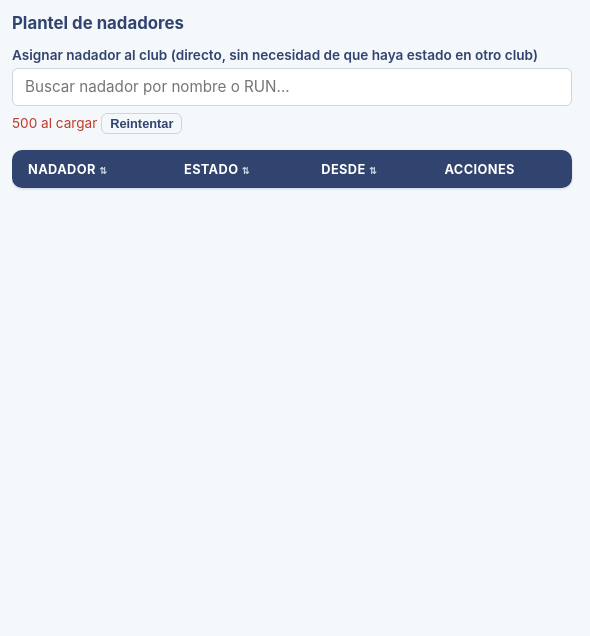
Test: estados y recuperación de la tabla › REINTENTAR recarga sin cambiar de club, y borra el error
This screenshot has width=590, height=636.
Check: the text "500 al cargar Reintentar" is shown, box [12,113,182,134]
Click the button "Reintentar" at (142, 124), box [101,113,182,134]
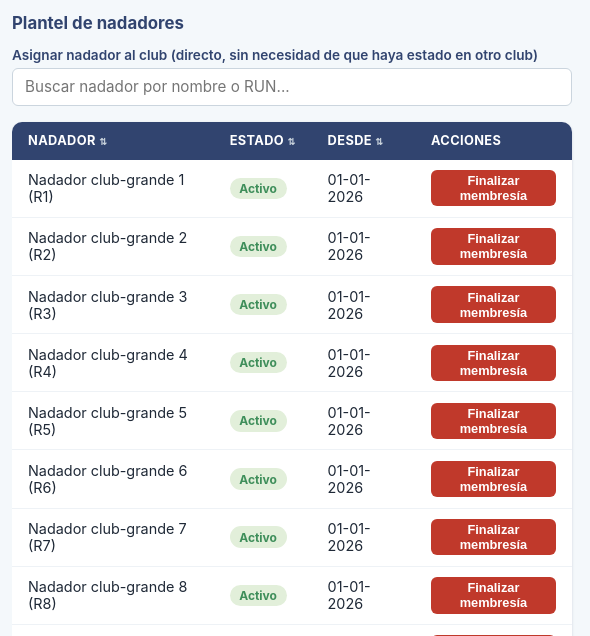
Check: the text "Nadador club-grande 1 (R1)" is shown, box [12,160,214,217]
Check: the text "500 al cargar" is gone
